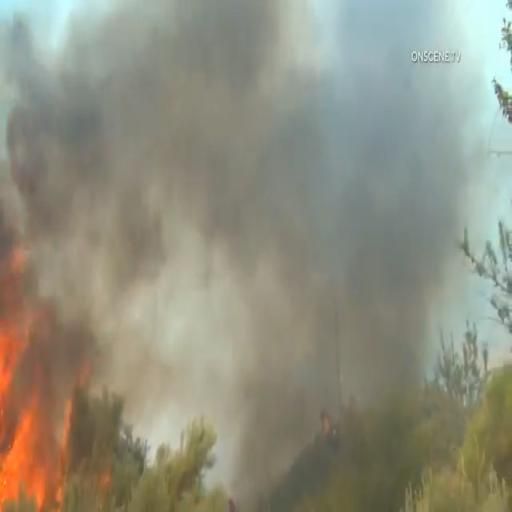smoke: (31, 6, 412, 364)
